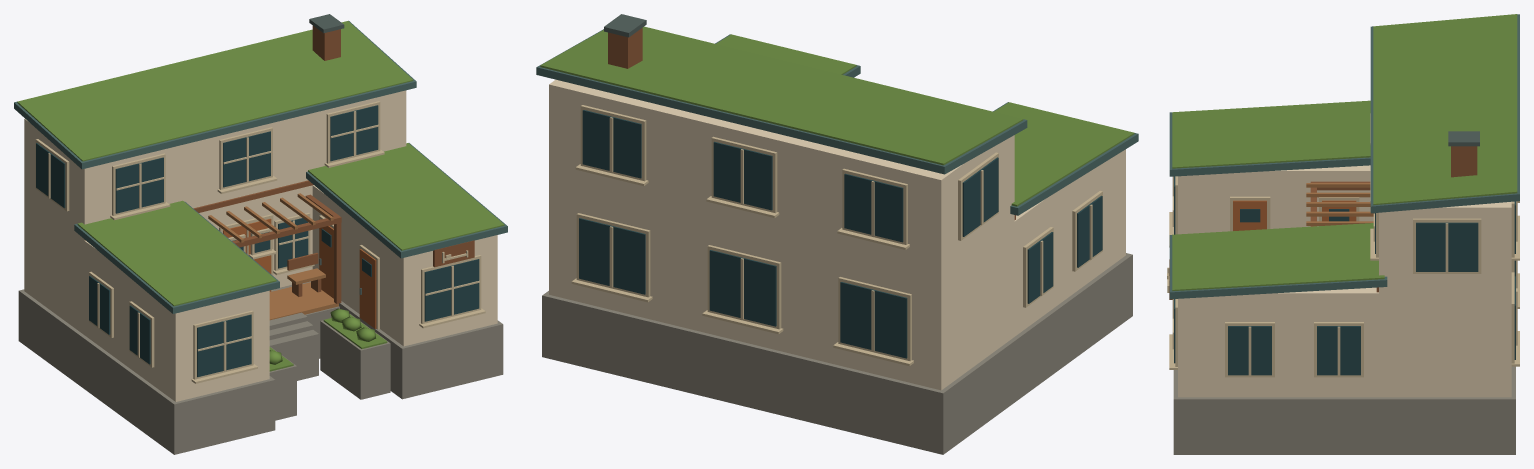
Rendered from courtyard_inn.glb.
3 renders of one model, left to right at view 1: azimuth 30°, elevation 25°; view 2: azimuth 150°, elevation 25°; view 3: azimuth 270°, elevation 25°, orthographic. The views are drawn at different scales.
Parts seen in each view (by area): view 1: courtyard_inn; view 2: courtyard_inn; view 3: courtyard_inn.
Boxes of the visible parts, x1,y1,x2,y2 form: courtyard_inn: (14, 14, 507, 454); courtyard_inn: (536, 14, 1138, 454); courtyard_inn: (1167, 14, 1519, 454).
Size of the model in its own units: 11.24 by 8.57 by 9.31.
